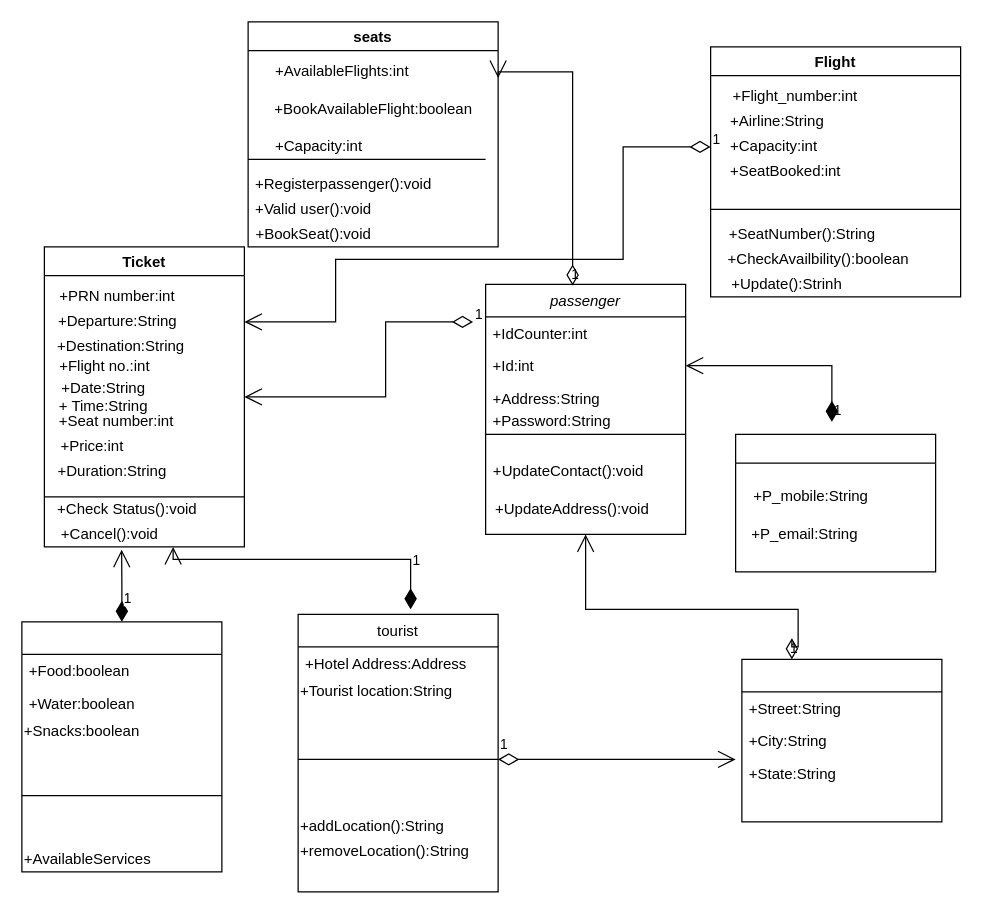
Image size: 984x914. Some labels were removed from this diagram. The shapes that lost their labels are listed below. From the top down, each one's box as (x1, y1, x2, y2) in pixels, then its label:
(734, 433, 936, 572): Contact
(21, 621, 222, 872): Regular
(741, 658, 942, 822): Address
